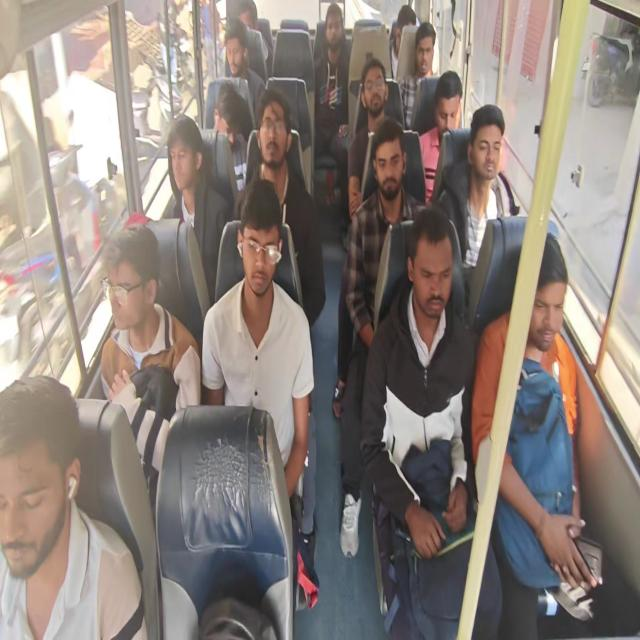person: (359, 206, 503, 638), (471, 231, 602, 638), (201, 177, 316, 548), (333, 117, 427, 558), (0, 374, 148, 639), (100, 218, 200, 511), (235, 87, 326, 327), (437, 103, 520, 275), (166, 114, 232, 304), (347, 57, 400, 219), (313, 3, 351, 219), (418, 70, 463, 206), (223, 18, 266, 128), (212, 81, 251, 191), (397, 22, 437, 129), (226, 0, 270, 81), (389, 4, 416, 80)
